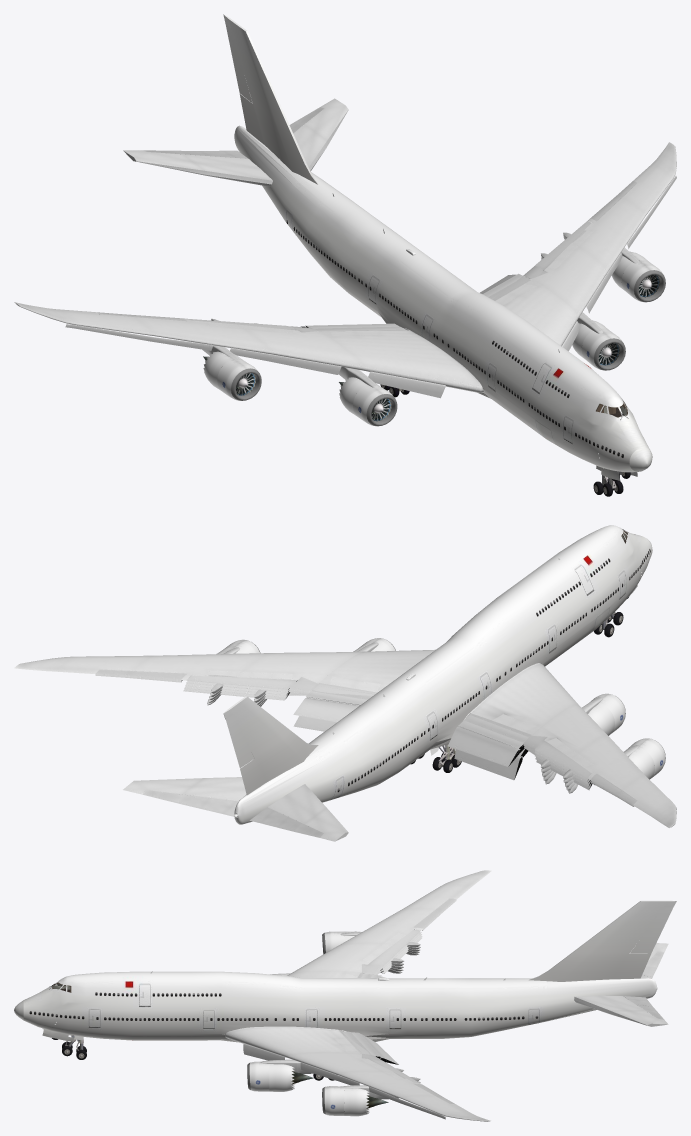
3 views of the same model, one above another, from view 1: azimuth 30°, elevation 25°; view 2: azimuth 150°, elevation 25°; view 3: azimuth 270°, elevation 25° (orthographic). The views are drawn at different scales.
Parts seen in each view (by area): view 1: Exterior, Pose_flaps_1, Pose_flaps_0, Pose_flaps_3; view 2: Exterior, Pose_flaps_3, Pose_flaps_0, Pose_flaps_4, Pose_flaps_2, Pose_flaps_1, Pose_gear_3; view 3: Exterior, Pose_flaps_0, Pose_flaps_1, Pose_flaps_3.
Boxes of the visible parts, left/top/right/bottom form: Exterior: left=14, top=14, right=676, bottom=472; Pose_flaps_1: left=65, top=175, right=676, bottom=398; Pose_flaps_0: left=67, top=181, right=636, bottom=363; Pose_flaps_3: left=112, top=184, right=635, bottom=330; Exterior: left=14, top=525, right=676, bottom=841; Pose_flaps_3: left=95, top=669, right=635, bottom=805; Pose_flaps_0: left=95, top=669, right=637, bottom=804; Pose_flaps_4: left=95, top=669, right=633, bottom=806; Pose_flaps_2: left=185, top=683, right=590, bottom=786; Pose_flaps_1: left=186, top=681, right=676, bottom=809; Pose_gear_3: left=410, top=619, right=614, bottom=772; Exterior: left=14, top=870, right=676, bottom=1121; Pose_flaps_0: left=318, top=898, right=456, bottom=1116; Pose_flaps_1: left=243, top=932, right=445, bottom=1119; Pose_flaps_3: left=351, top=899, right=456, bottom=1100.
Size of the model in its own units: 68.4 by 20.04 by 76.55.
39 materials, 29 textured.
